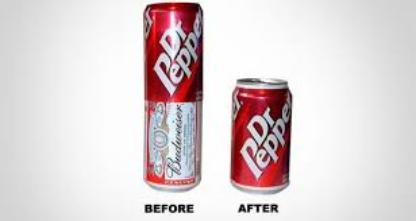Can: (142, 3, 202, 192), (228, 77, 293, 196)
